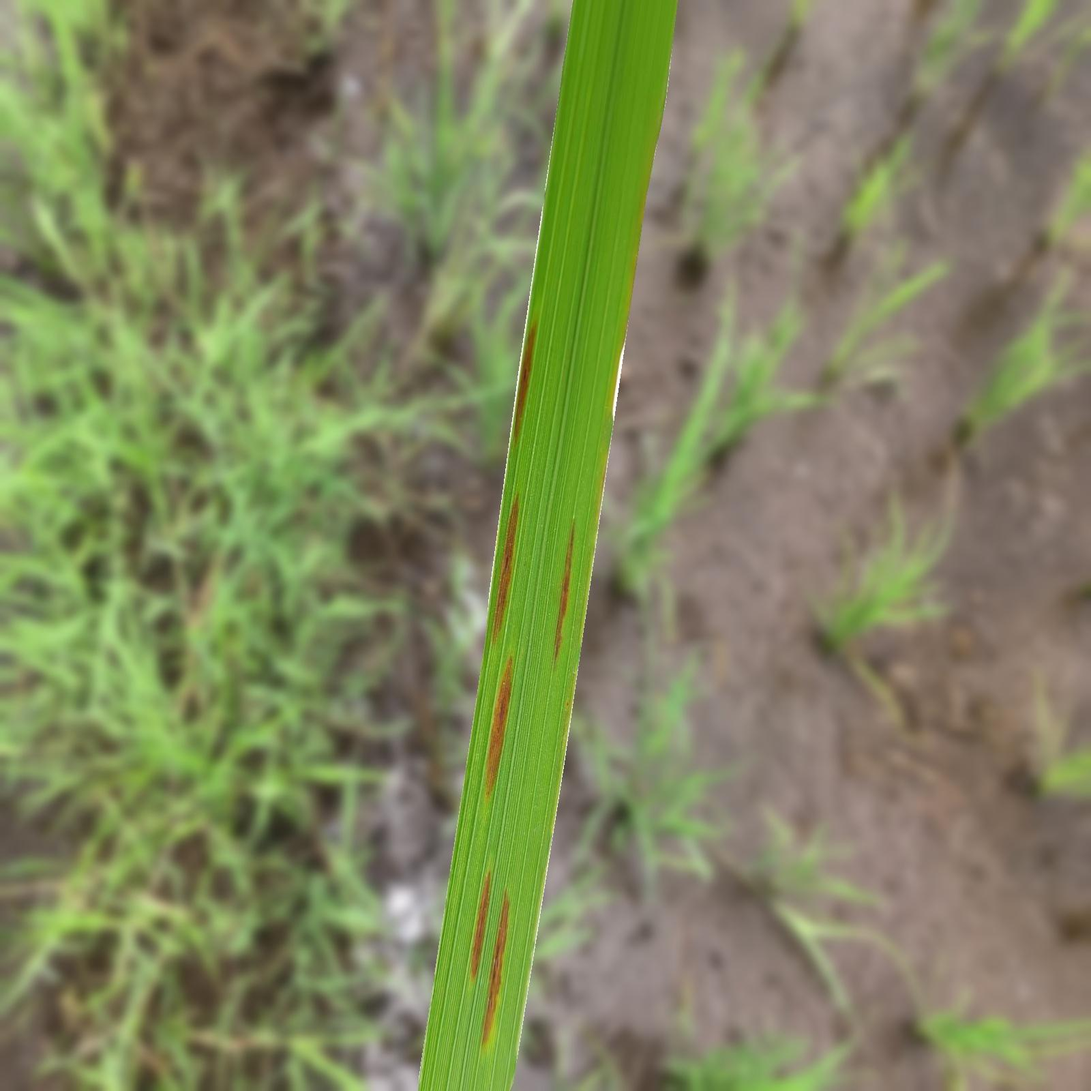LEAF: (418, 0, 678, 1090)
NBS: (483, 891, 509, 1046), (492, 495, 518, 638), (487, 657, 512, 798), (554, 522, 573, 659), (515, 323, 536, 436), (470, 871, 490, 978)
